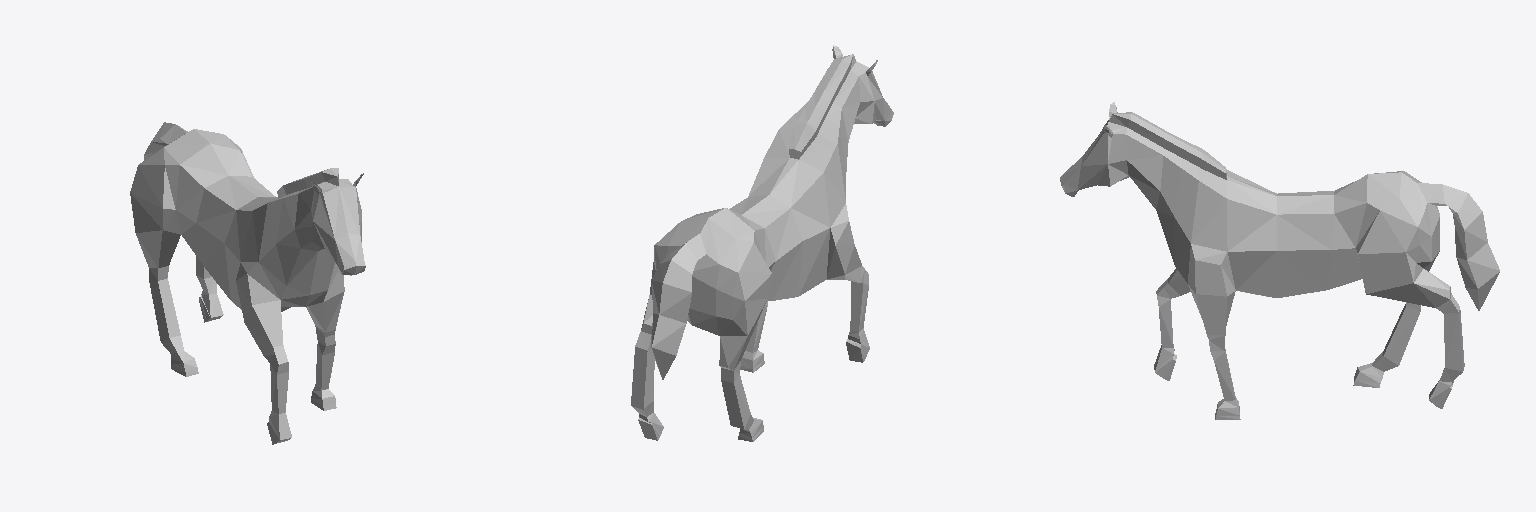
The model's file is Horse1.obj.
3 views of the same model, side by side, from view 1: azimuth 30°, elevation 25°; view 2: azimuth 150°, elevation 25°; view 3: azimuth 270°, elevation 25° (orthographic).
Visible parts, largest first — view 1: Horse; view 2: Horse; view 3: Horse.
Part boxes in pixels (bbox=[...]): Horse: bbox=[130, 122, 365, 444]; Horse: bbox=[631, 45, 893, 441]; Horse: bbox=[1060, 102, 1499, 419].
Bounding box in the file's own units: 2.55 × 6.73 × 9.47.